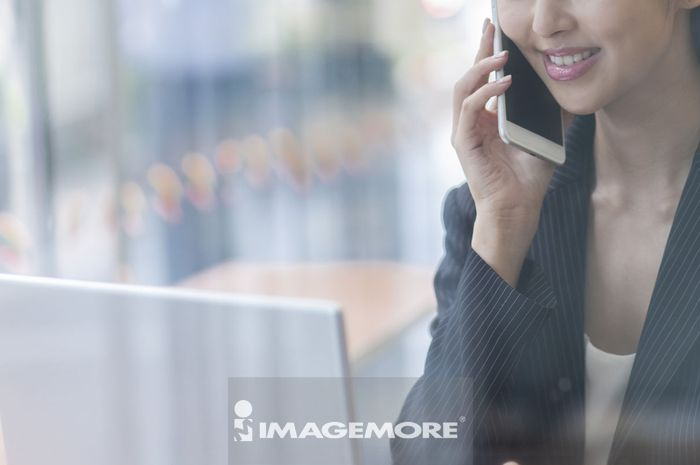phone: (487, 2, 569, 171)
